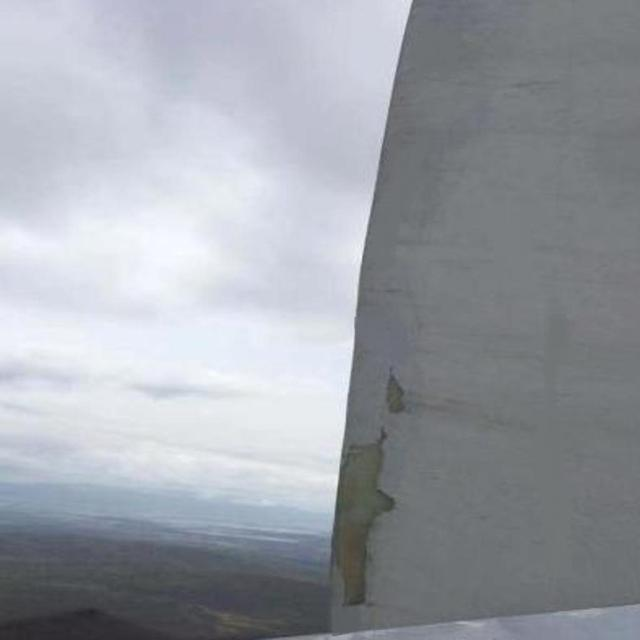surface_peeling: (327, 437, 392, 607), (380, 371, 410, 417)
